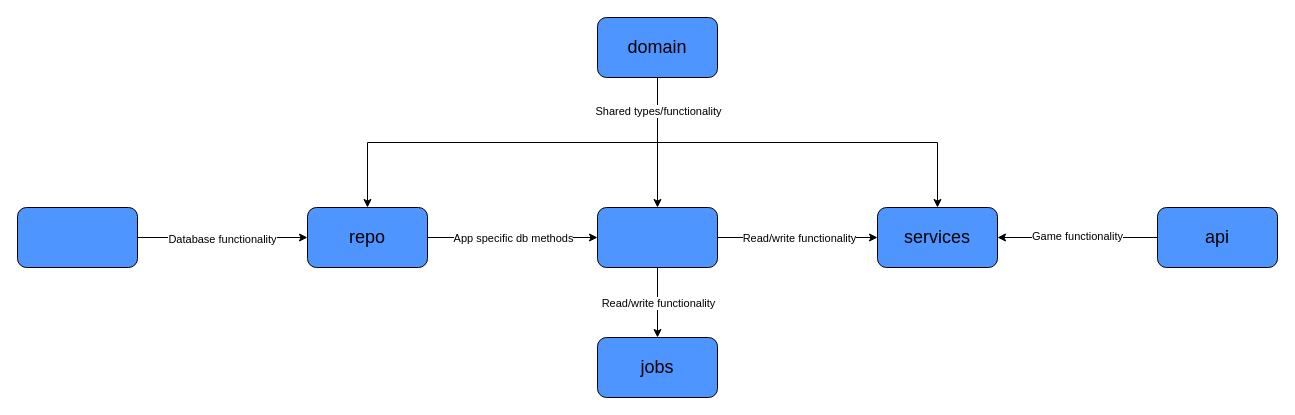
Some shapes in this 1295 by 415 pixel diagram are drawn without their labels. Each missing label, with the centre of its shape:
"db" goes at point (77, 237).
"store" goes at point (657, 237).
